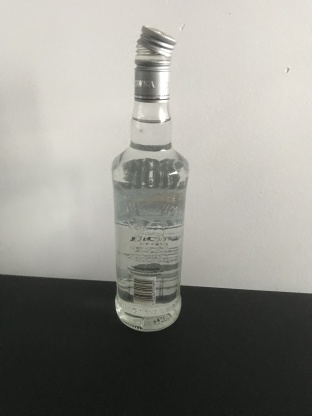nakretka: (132, 22, 177, 102)
